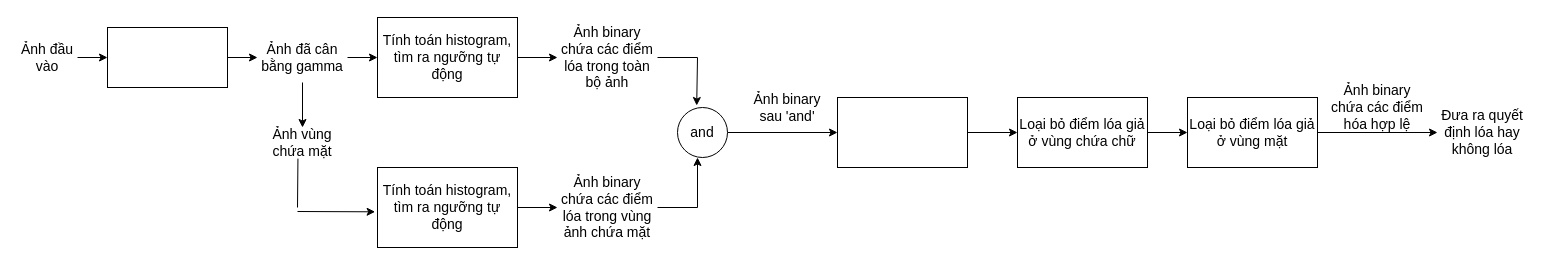
Some shapes in this 1544 by 265 pixel diagram are drawn without their labels. The box of each missing label's shape, as (x1, y1, x2, y2) in pixels:
Cân bằng gamma: (106, 26, 228, 88)
Loại bỏ điểm lóa ở những vùng ảnh không quan tâm: (836, 96, 968, 168)
